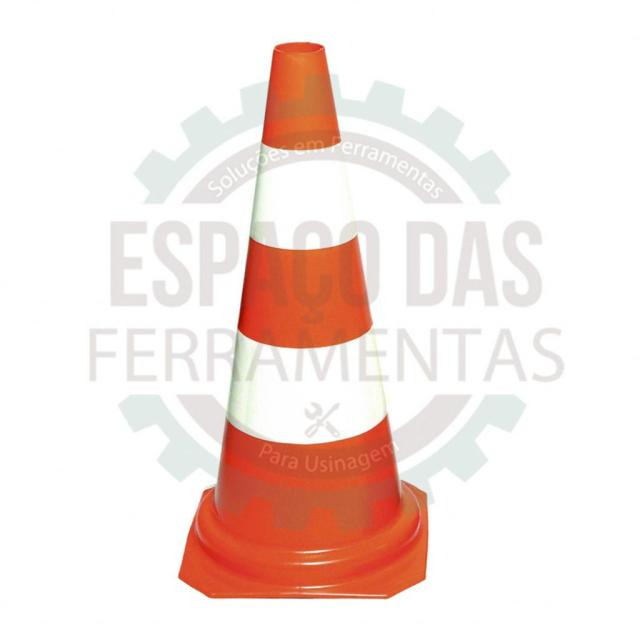cone: (175, 50, 428, 609)
